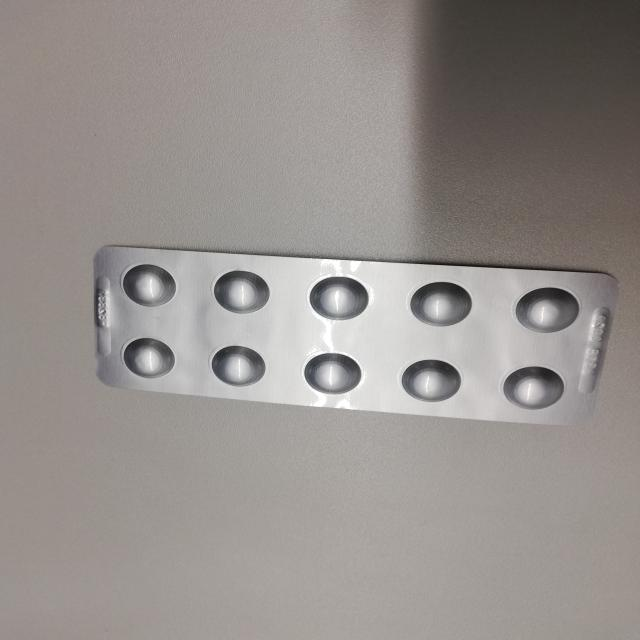Pill: (511, 281, 583, 336), (407, 274, 476, 330), (207, 265, 276, 321), (304, 272, 378, 324), (398, 352, 469, 406), (496, 364, 574, 412), (204, 340, 272, 392), (296, 350, 365, 400), (111, 257, 170, 311), (113, 333, 176, 382)
